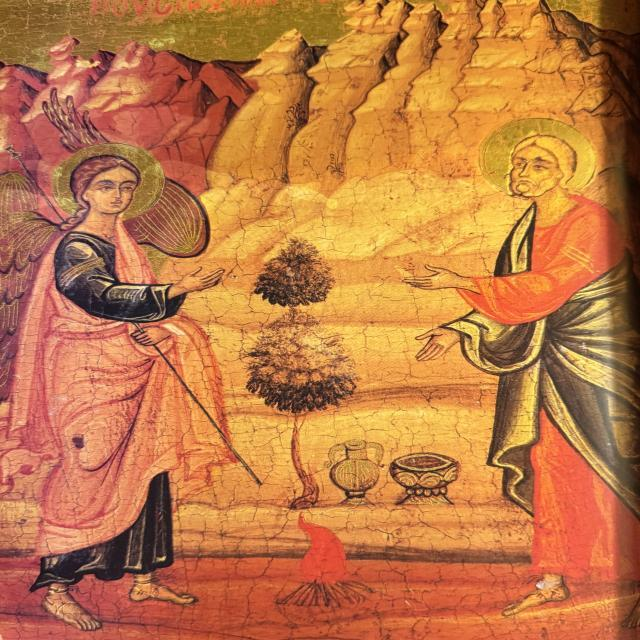angel: (1, 142, 233, 640)
aura: (476, 117, 598, 201), (53, 145, 167, 221)
basin: (396, 449, 466, 506)
saint: (407, 108, 640, 628)
vase: (318, 439, 391, 505)
wing: (131, 176, 211, 255), (1, 168, 41, 227)
